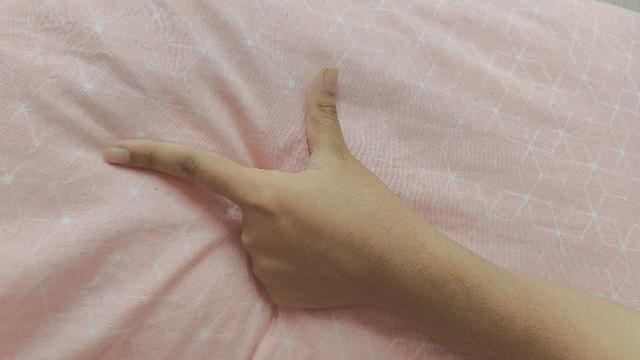chandrakala: (101, 68, 640, 360)
